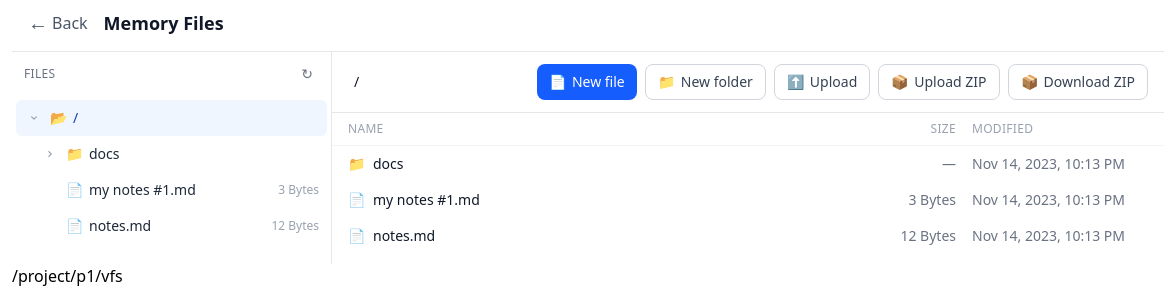
it: VfsManagerView › URL follows the selection › round-trips names with spaces, # and % through the URL
The width and height of the screenshot is (1176, 304).
Click the list item "📄 my notes #1.md 3 Bytes" at [192, 190], box [66,180,319,199]
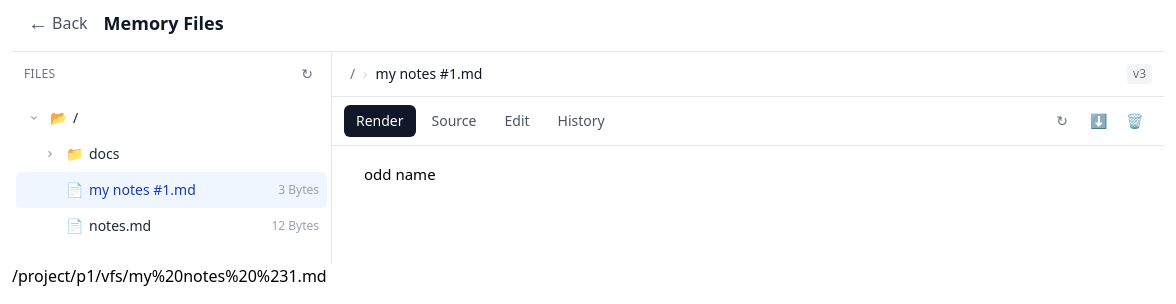
Check: the text with test id "location" reads "/project/p1/vfs/my%20notes%20%231.md", box [12,265,327,287]
Check: the text "odd name" is shown, box [364,164,436,184]
